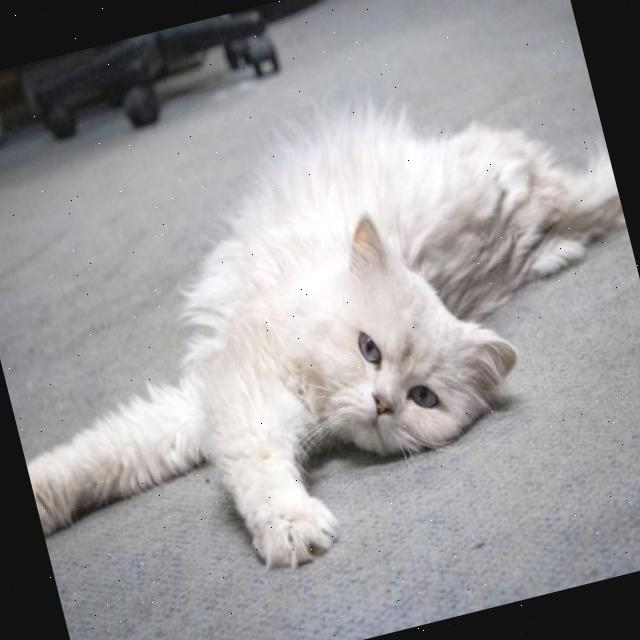persian_cat: (262, 178, 550, 491)
